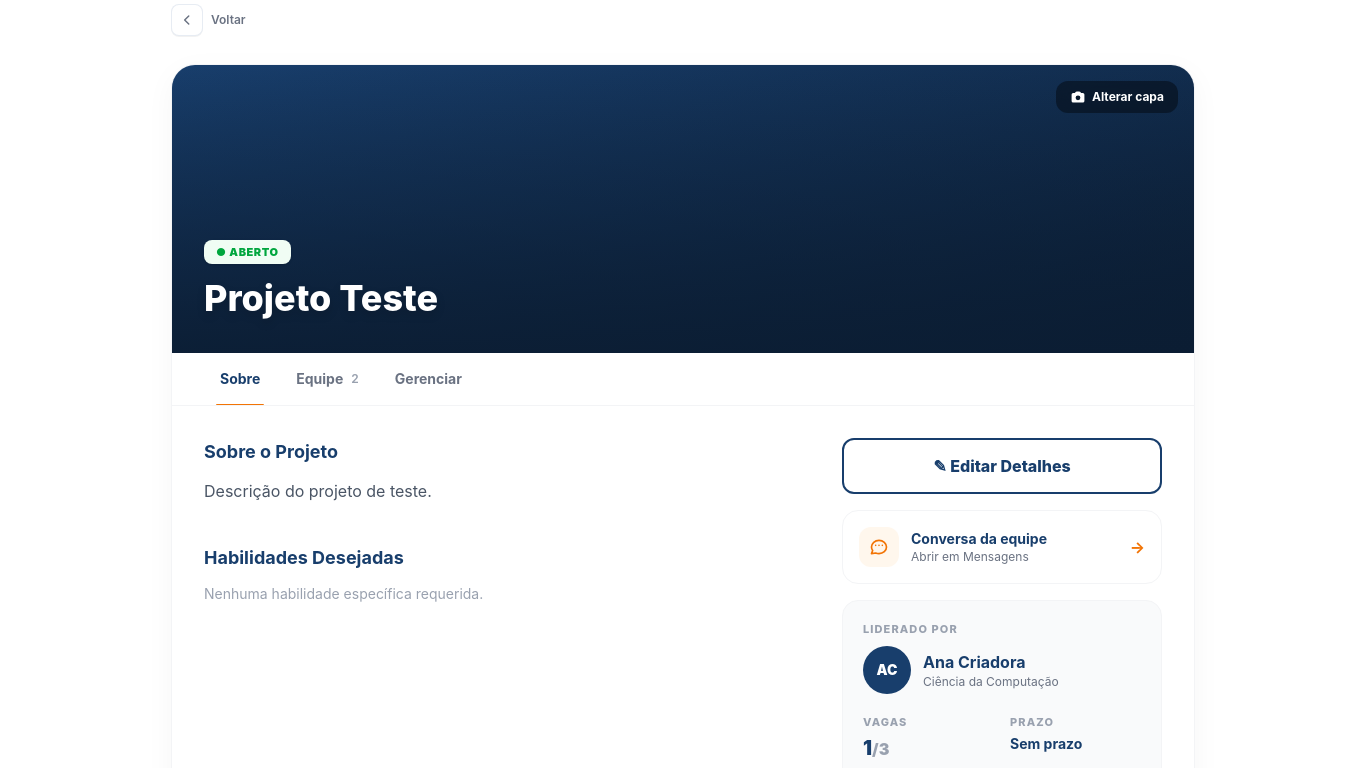
DetalhesProjeto › permite que o criador remova um membro da equipe
Click the tab "Equipe 2" at (328, 379), box [280,353,375,405]
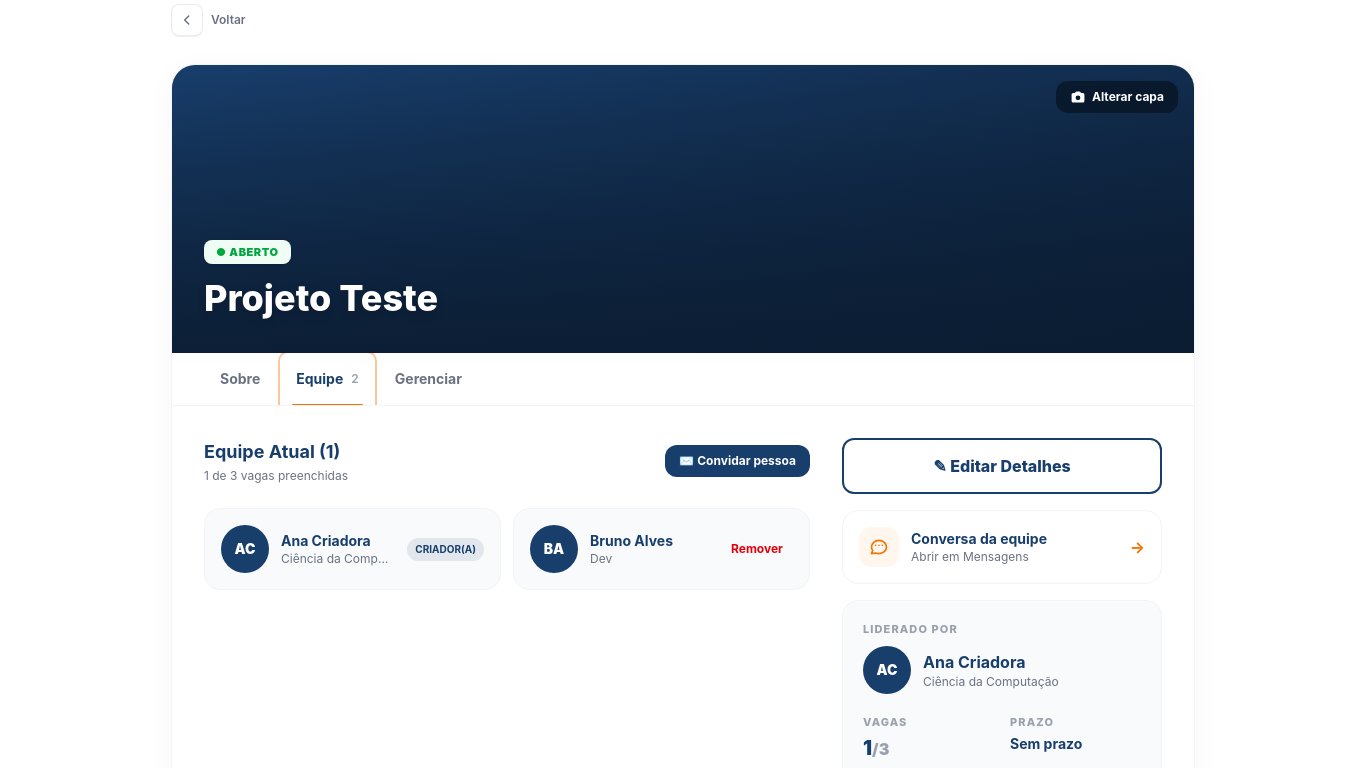
Click the button with aria-label "remover bruno alves do projeto" at (757, 549), box [721,537,793,561]
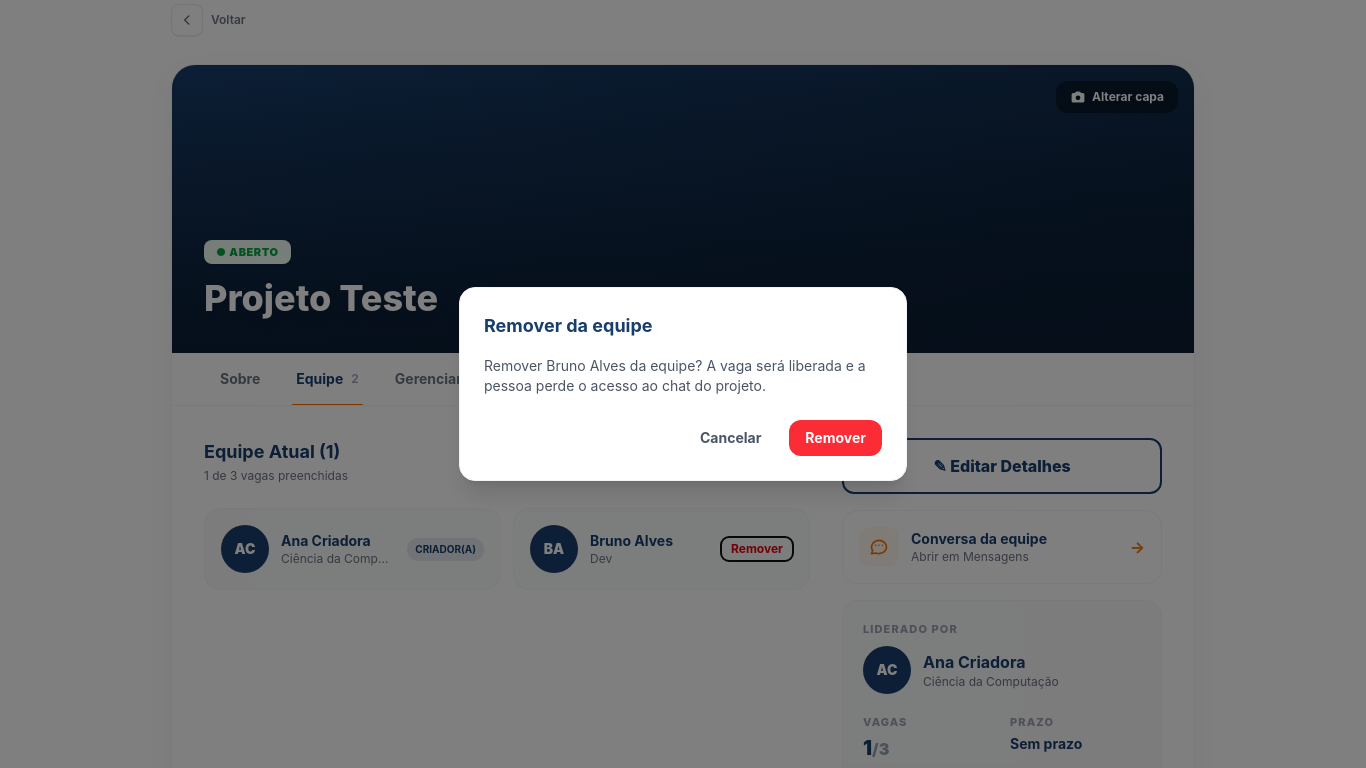
Now the text "Remover Bruno Alves da equipe" is shown, box [484,357,866,394]
Click the button "Remover" at (836, 438), box [789,420,882,456]
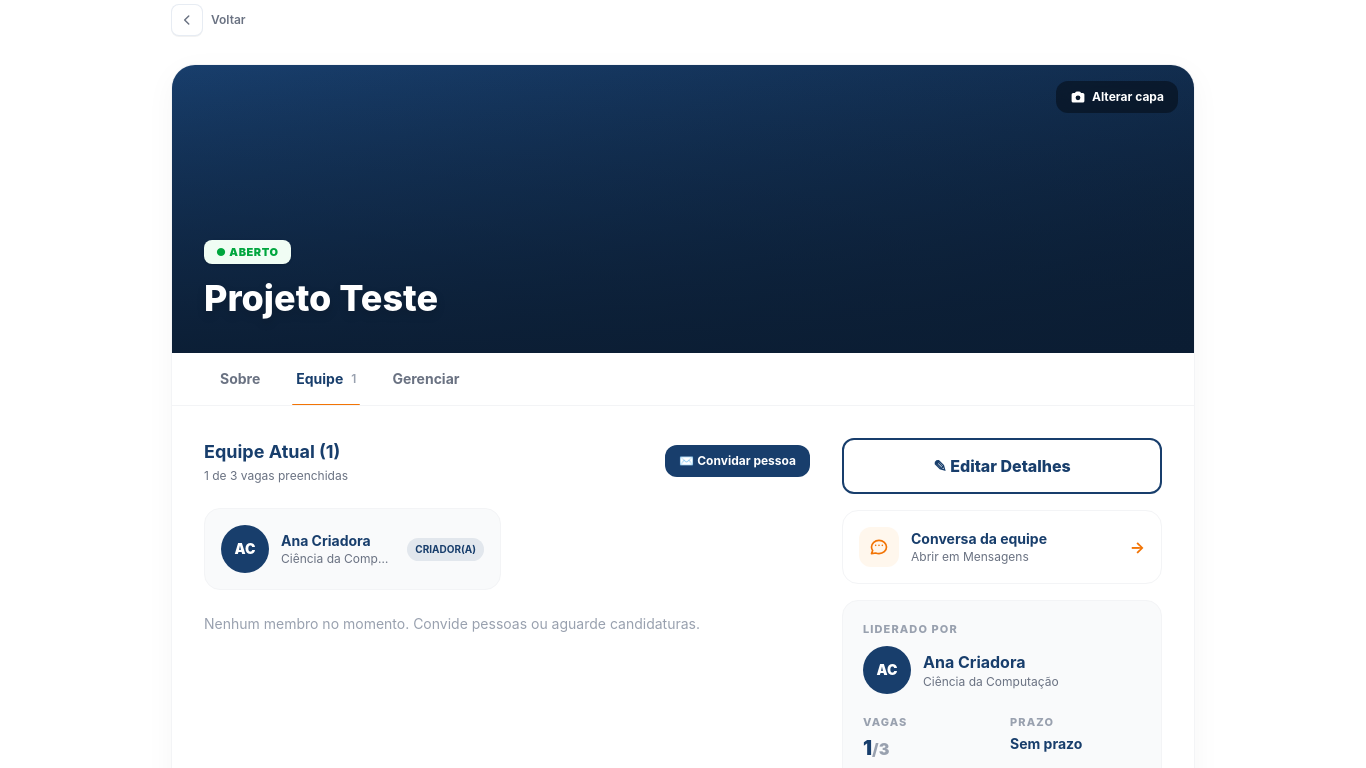
Now the text "Nenhum membro no momento" is shown, box [204,615,409,632]
